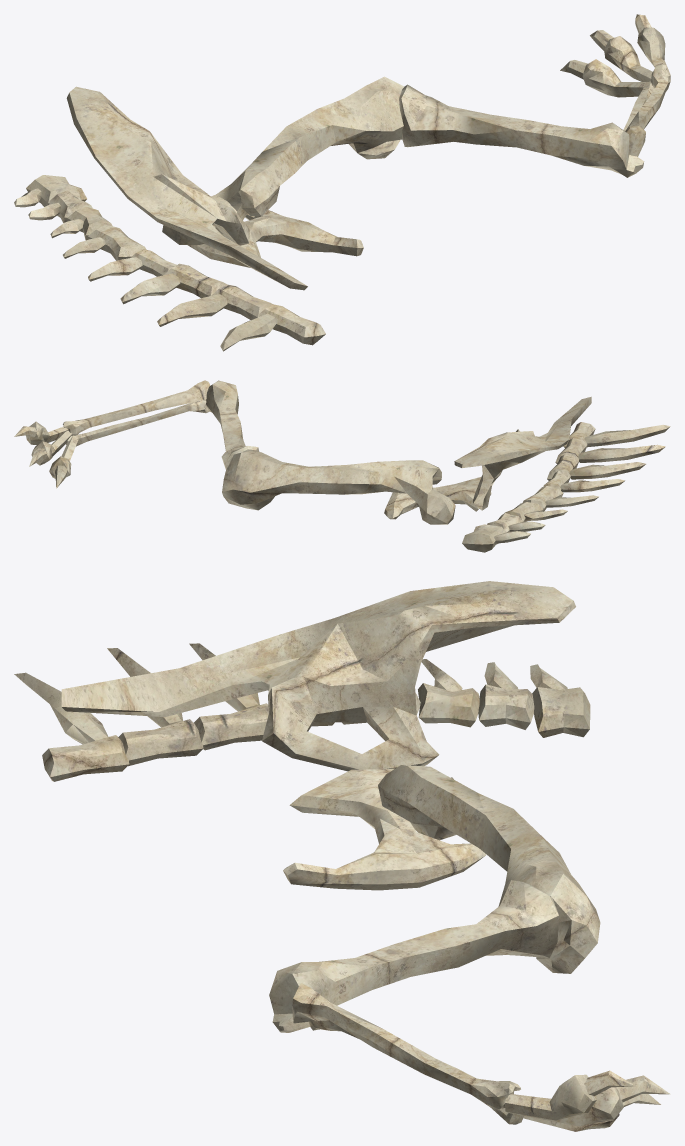
Rendered from TW2_5_BONES_01_10-transformed.glb.
The picture shows the model from 3 angles, top to bottom: view 1: azimuth 30°, elevation 25°; view 2: azimuth 150°, elevation 25°; view 3: azimuth 270°, elevation 25°; orthographic projection. The views are drawn at different scales.
Visible parts, largest first — view 1: 5_BONES_01_10; view 2: 5_BONES_01_10; view 3: 5_BONES_01_10.
Boxes of the visible parts, x1,y1,x2,y2 form: 5_BONES_01_10: (14,14,670,351); 5_BONES_01_10: (14,380,670,552); 5_BONES_01_10: (14,581,670,1131).
Bounding box in the file's own units: 4.82 × 0.9902 × 3.03.
Materials: 1 (1 with a texture image).
